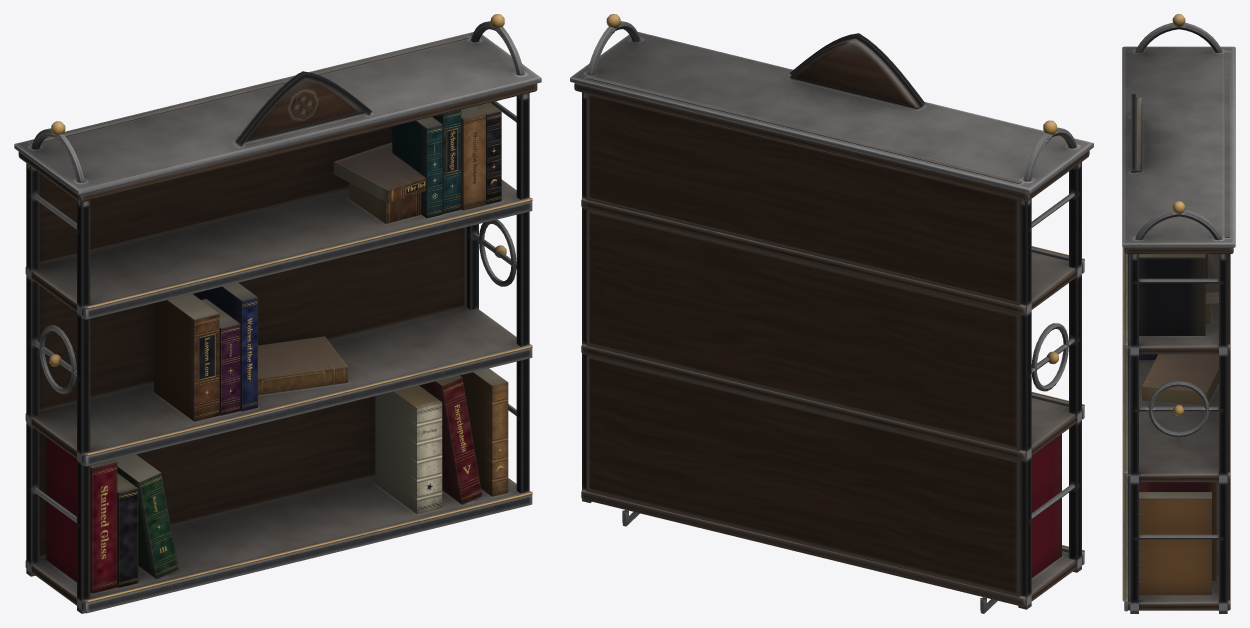
The model's file is DormShelfSparse.fbx.
3 views of the same model, side by side, from view 1: azimuth 30°, elevation 25°; view 2: azimuth 150°, elevation 25°; view 3: azimuth 270°, elevation 25° (orthographic). The views are drawn at different scales.
Visible parts, largest first — view 1: DormShelfSparse; view 2: DormShelfSparse; view 3: DormShelfSparse.
Boxes of the visible parts, left/top/right/bottom form: DormShelfSparse: left=14, top=14, right=541, bottom=613; DormShelfSparse: left=570, top=14, right=1093, bottom=613; DormShelfSparse: left=1122, top=14, right=1235, bottom=613.
Size of the model in its own units: 496 by 511 by 120.
